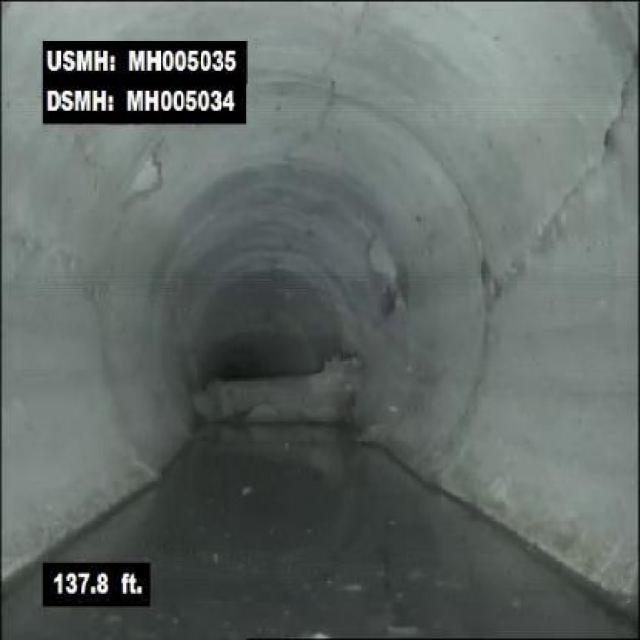Crack: (492, 62, 634, 304), (328, 0, 374, 97)
